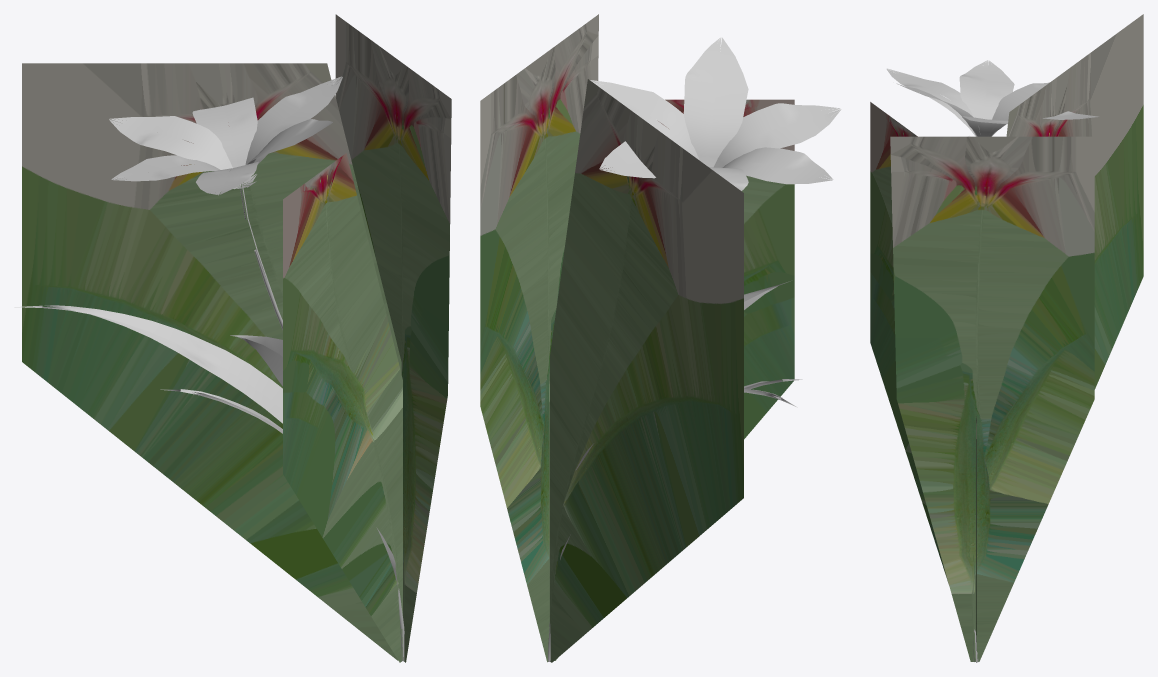
File: PW_Tulip_White_Red.fbx
3 renders of one model, left to right at view 1: azimuth 30°, elevation 25°; view 2: azimuth 150°, elevation 25°; view 3: azimuth 270°, elevation 25°, orthographic. The views are drawn at different scales.
Parts seen in each view (by area): view 1: Billboard, LOD0; view 2: Billboard, LOD0; view 3: Billboard, LOD0.
Boxes of the visible parts, x1,y1,x2,y2 form: Billboard: (22, 14, 451, 662); LOD0: (14, 76, 404, 661); Billboard: (480, 14, 794, 662); LOD0: (548, 37, 841, 661); Billboard: (870, 14, 1143, 661); LOD0: (886, 60, 1098, 662).
Size of what is drawn, in the model's own units: 6.96 by 12.6 by 5.87.
